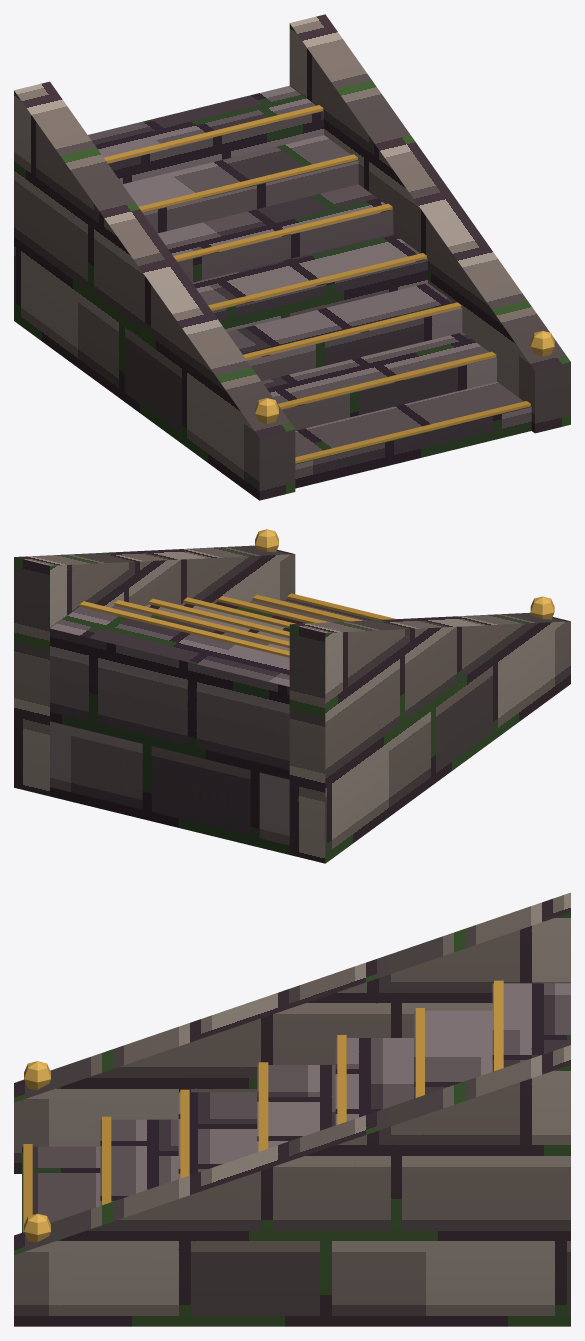
File: gold_stair.glb
3 renders of one model, top to bottom at view 1: azimuth 30°, elevation 25°; view 2: azimuth 150°, elevation 25°; view 3: azimuth 270°, elevation 25°, orthographic. The views are drawn at different scales.
Parts seen in each view (by area): view 1: gold_stair; view 2: gold_stair; view 3: gold_stair.
Boxes of the visible parts, x1,y1,x2,y2 form: gold_stair: [14, 14, 570, 500]; gold_stair: [14, 529, 570, 863]; gold_stair: [14, 892, 570, 1326].
Bounding box in the file's own units: 2.6 × 1.84 × 3.55.
Materials: 3 (1 with a texture image).
